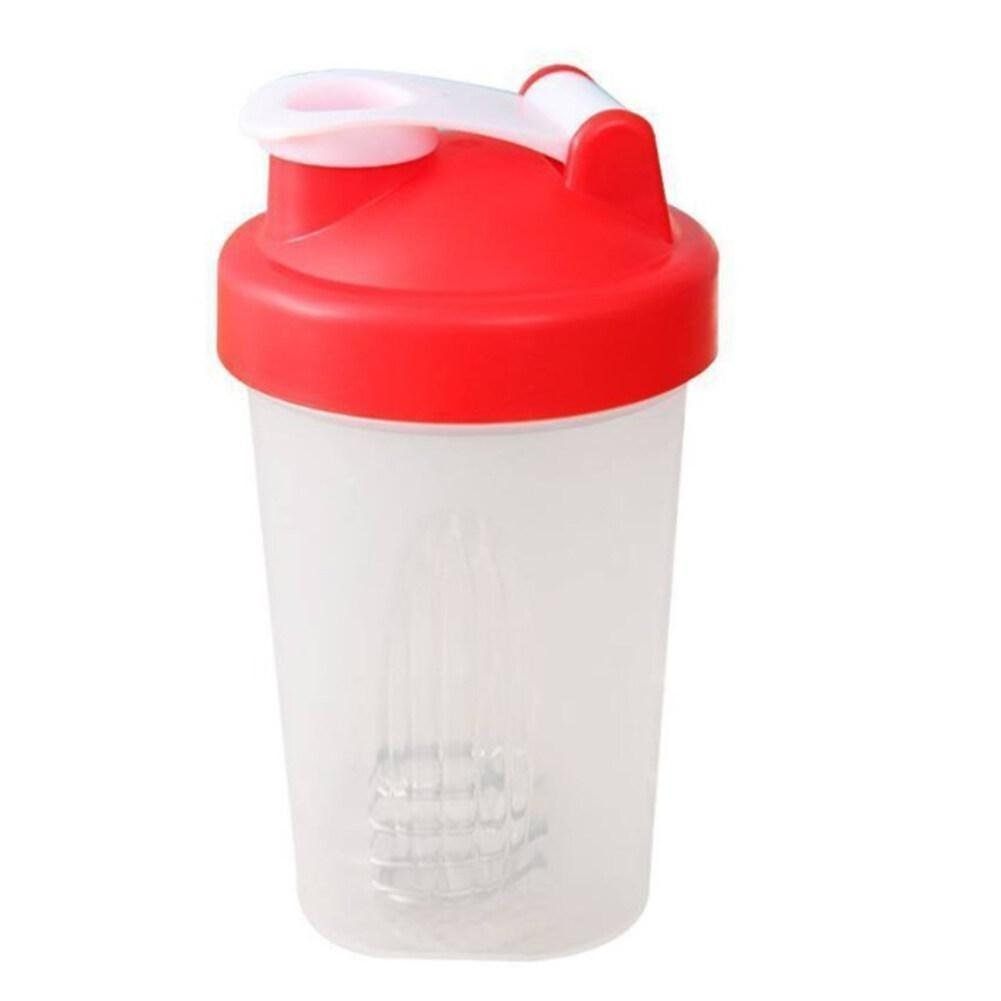gym bottle: (206, 53, 732, 960)
